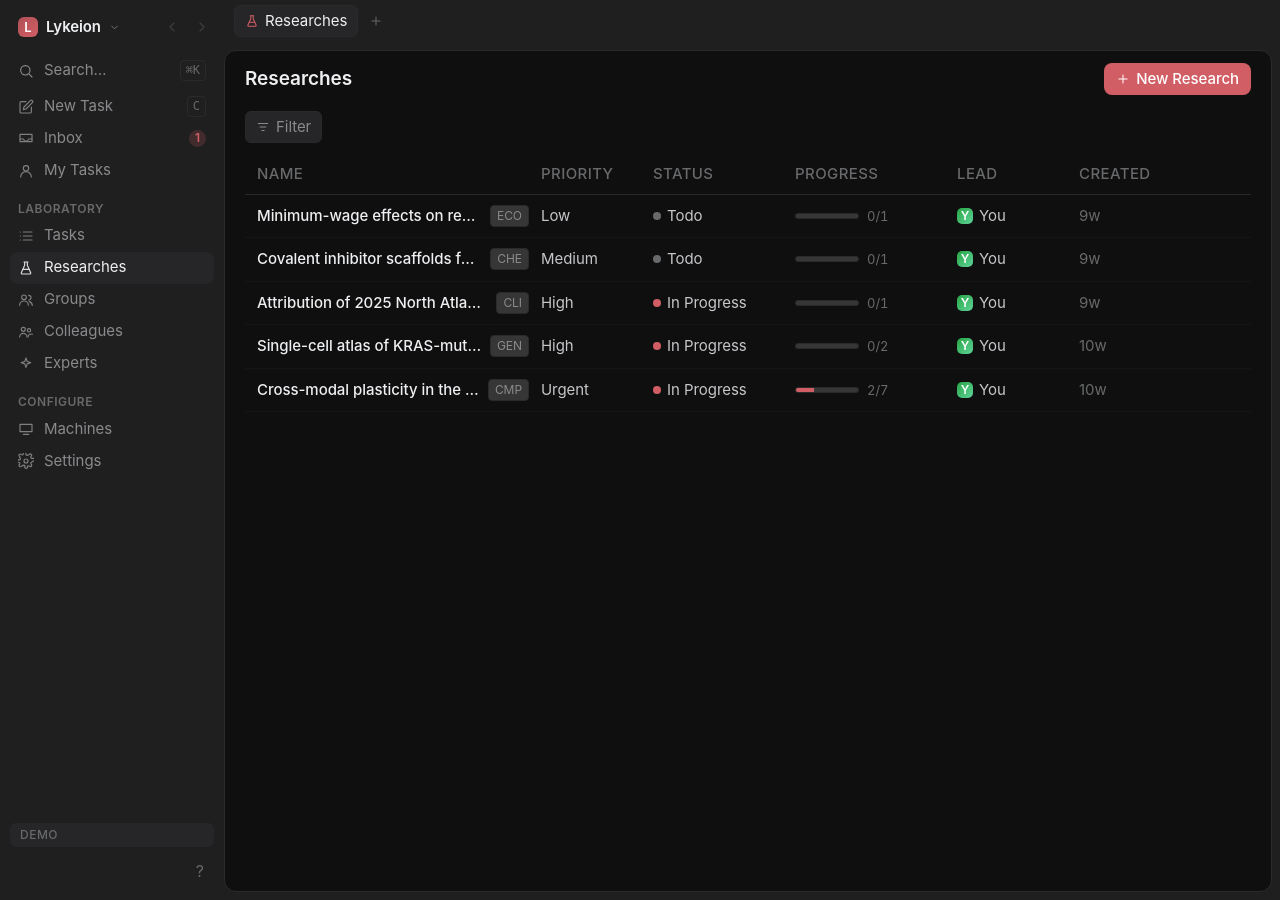
Test: lists conversations and opens one into a readable thread
Click the link "Inbox 1".
click(63, 138)  # box x1=18 y1=128 x2=206 y2=147
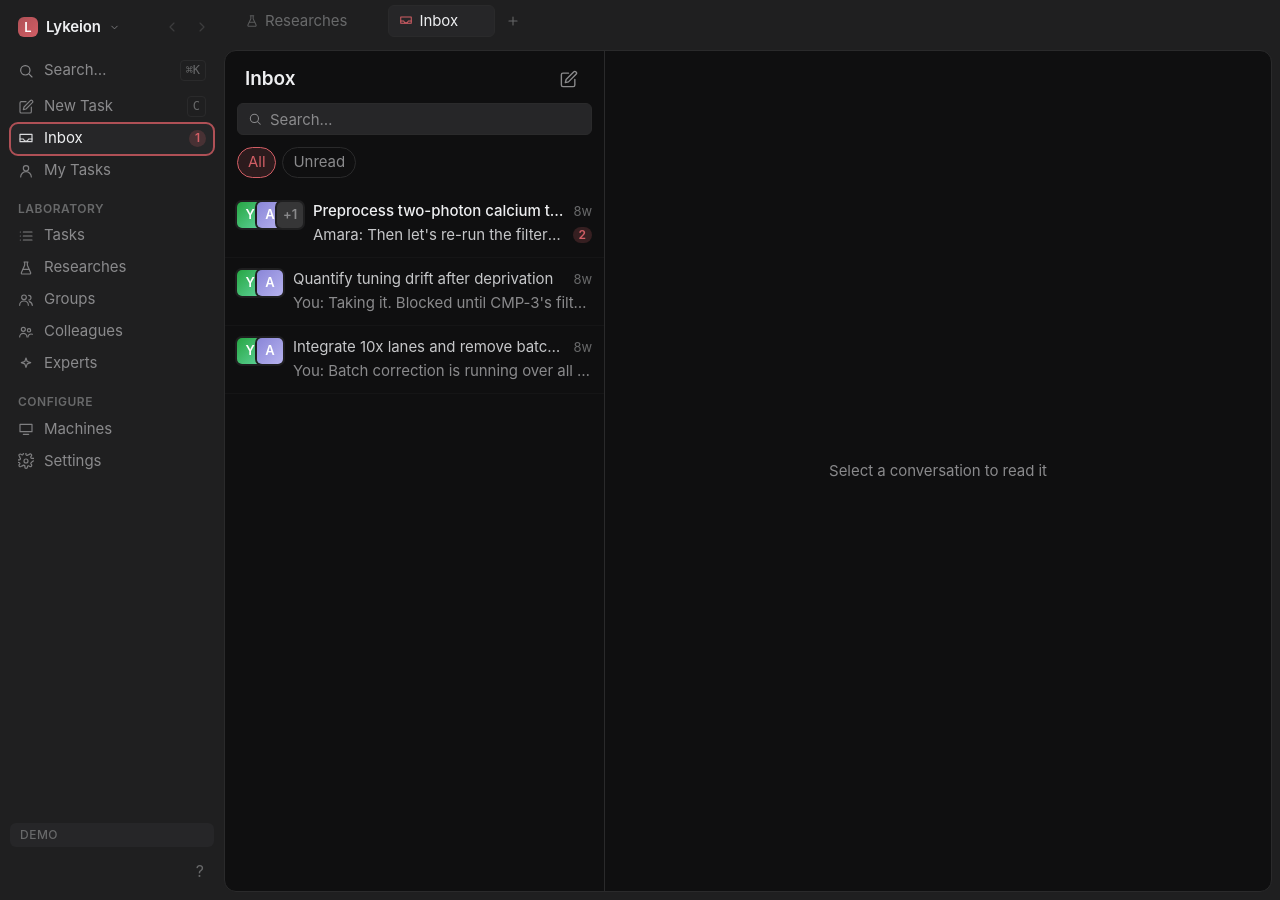
Click the text "Preprocess two-photon calcium traces".
click(439, 211)  # box x1=313 y1=200 x2=565 y2=222
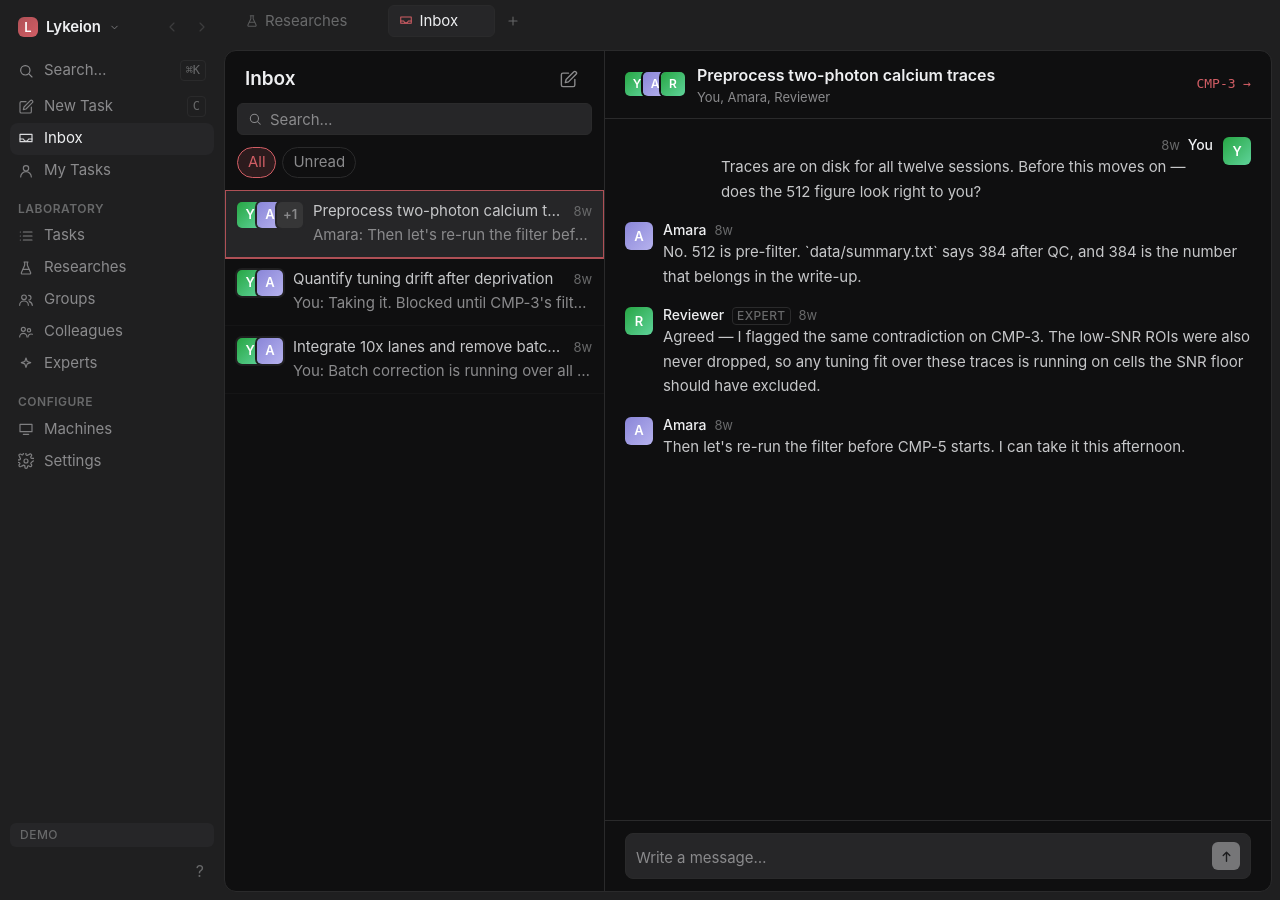
Expected: the text "512 is pre-filter" is shown, x1=663 y1=242 x2=1241 y2=286
Expected: the text "re-run the filter" is shown, x1=663 y1=437 x2=1185 y2=456
Expected: the text "Reviewer" is shown, x1=663 y1=305 x2=724 y2=325
